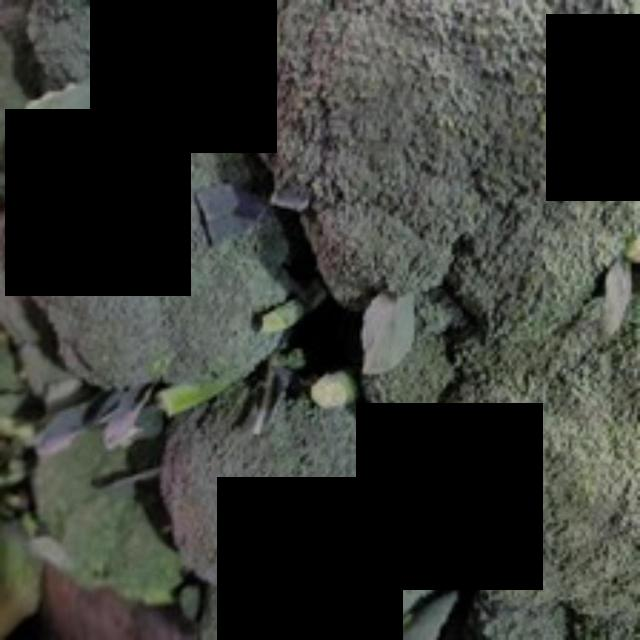broccoli: (251, 0, 637, 346)
